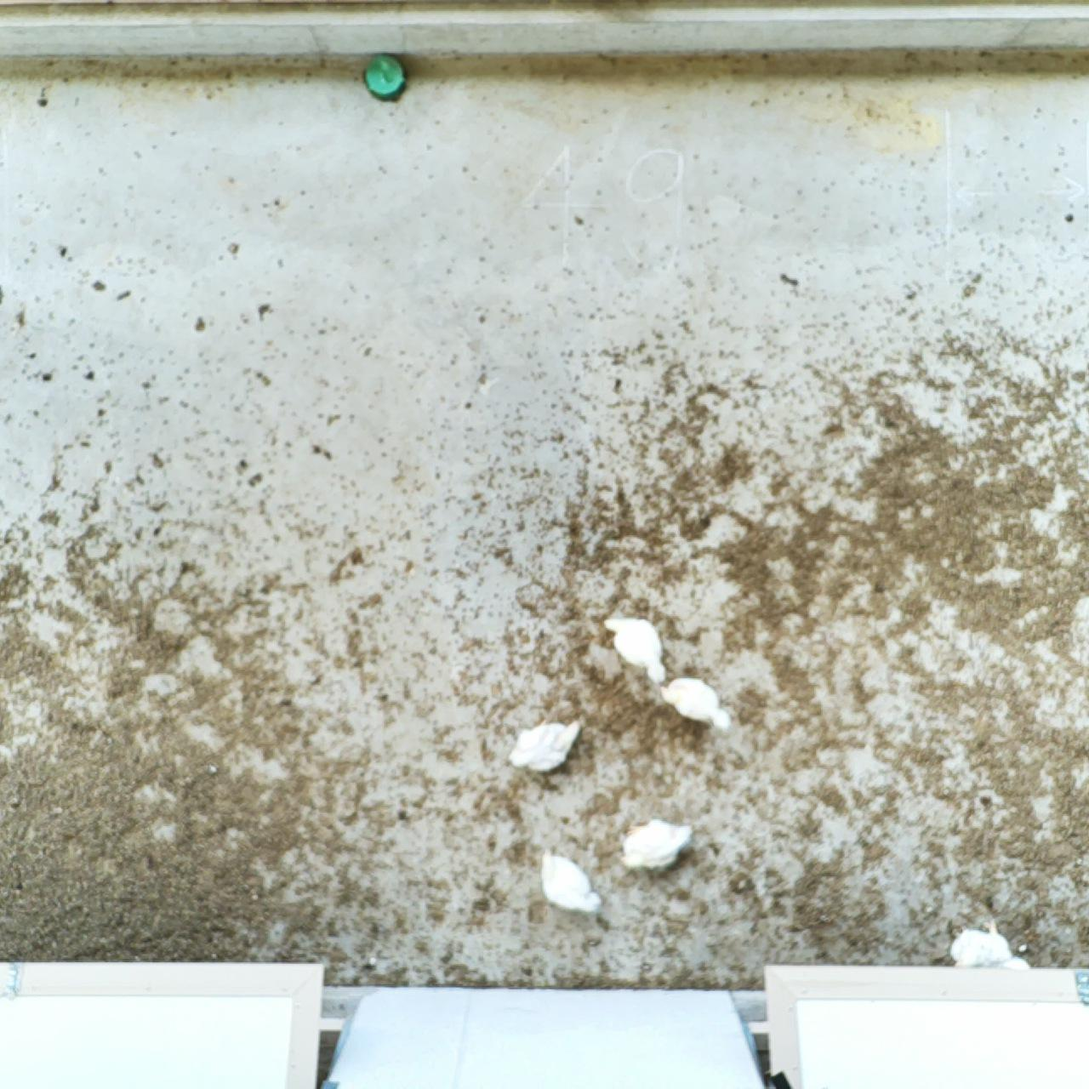chicken: (603, 612, 670, 684), (659, 673, 736, 733), (620, 815, 698, 873), (537, 849, 606, 914), (509, 716, 584, 775), (948, 916, 1019, 977), (984, 955, 1033, 986)
